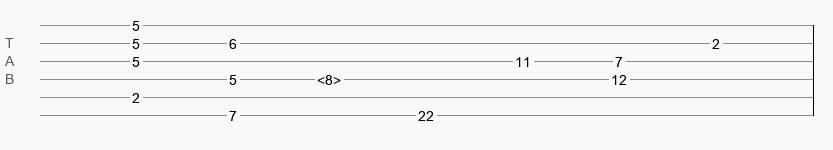11: (515, 54, 531, 64)
12: (611, 72, 627, 82)
2: (132, 90, 140, 100), (712, 36, 720, 46)
22: (418, 108, 434, 118)
5: (132, 36, 140, 46), (132, 54, 140, 64), (132, 18, 140, 28), (229, 72, 237, 82)
6: (229, 36, 237, 46)
7: (229, 108, 237, 118), (615, 54, 623, 64)
harmonic: (317, 72, 341, 82)
